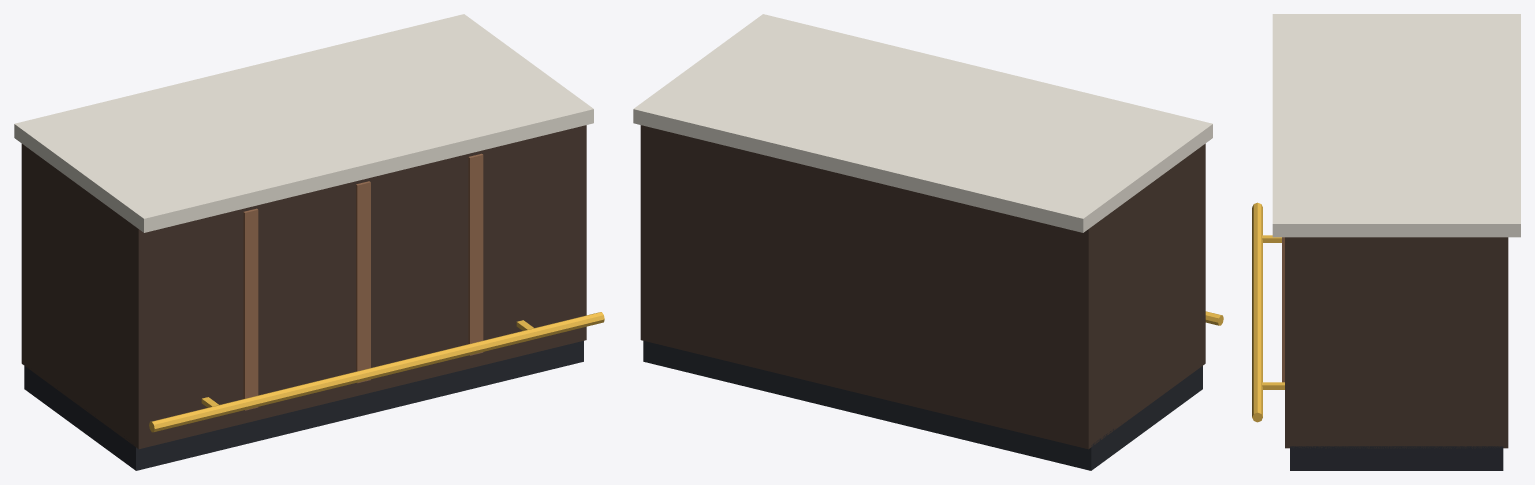
Rendered from counter_bar_2m.glb.
3 views of the same model, side by side, from view 1: azimuth 30°, elevation 25°; view 2: azimuth 150°, elevation 25°; view 3: azimuth 270°, elevation 25° (orthographic). The views are drawn at different scales.
Visible parts, largest first — view 1: counter_bar_2m_mesh; view 2: counter_bar_2m_mesh; view 3: counter_bar_2m_mesh.
Boxes of the visible parts, x1=… form: counter_bar_2m_mesh: x1=14, y1=14, x2=604, y2=470; counter_bar_2m_mesh: x1=633, y1=14, x2=1223, y2=470; counter_bar_2m_mesh: x1=1252, y1=14, x2=1520, y2=470.
Bounding box in the file's own units: 2 × 1.1 × 1.08.
Materials: 1 (1 with a texture image).
